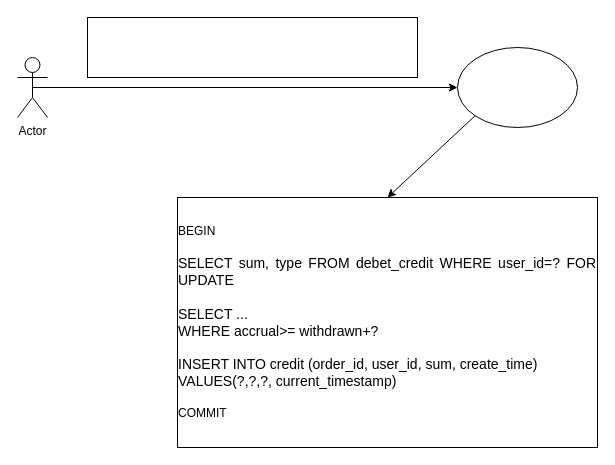
Image size: 615x465. Some labels were removed from this diagram. Each missing label, with the centre of its shape:
HTTP Server: the point at 517,87
POST /api/user/balance/withdraw: the point at 252,47
